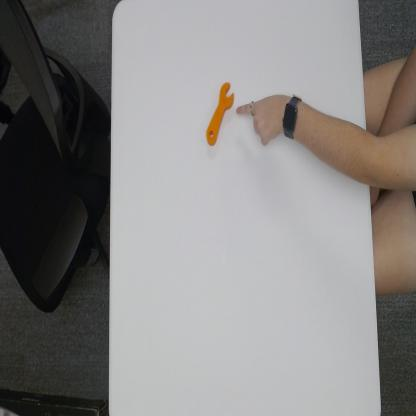Arm: (306, 94, 372, 186)
Hand: (236, 88, 282, 147)
Screwdriver: (206, 78, 236, 149)
